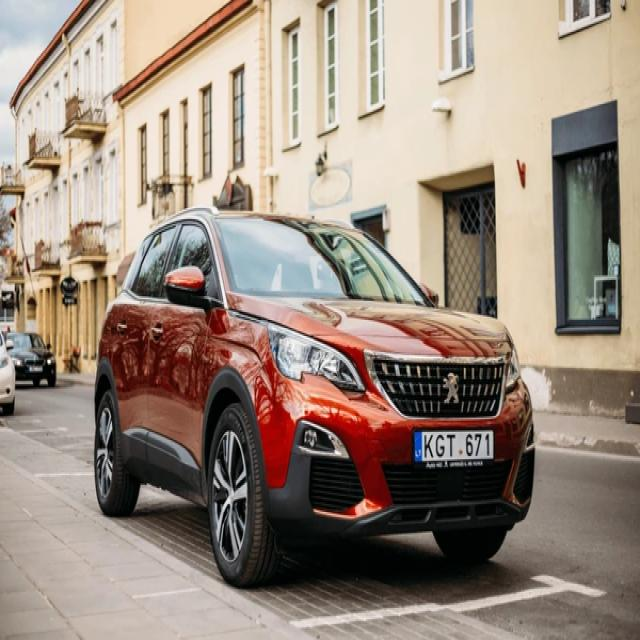pegout: (442, 370, 459, 408)
